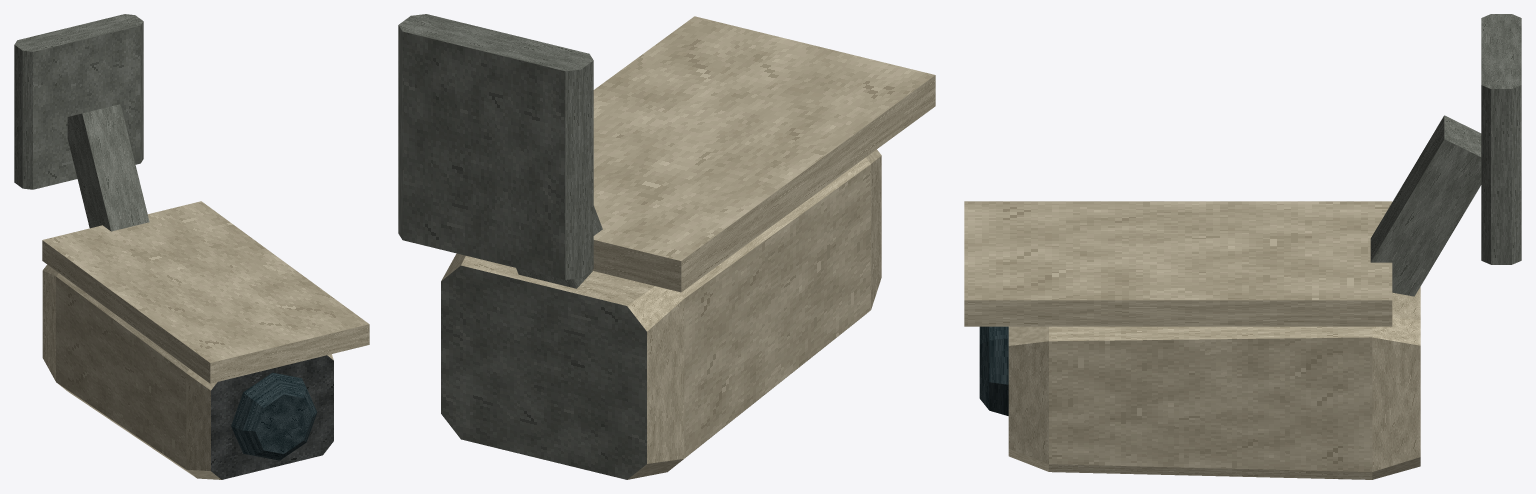
Rendered from camera.glb.
3 views of the same model, side by side, from view 1: azimuth 30°, elevation 25°; view 2: azimuth 150°, elevation 25°; view 3: azimuth 270°, elevation 25° (orthographic). The views are drawn at different scales.
Visible parts, largest first — view 1: Body; view 2: Body; view 3: Body.
Part boxes in pixels (x1,y1,x2,y2): Body: [14, 14, 369, 479]; Body: [398, 14, 935, 479]; Body: [964, 14, 1521, 479].
Bounding box in the file's own units: 0.145 × 0.266 × 0.345.
Materials: 1 (1 with a texture image).
